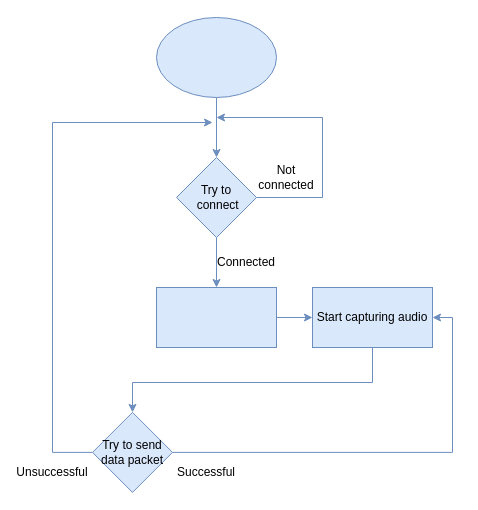
Some shapes in this 478 by 510 pixel diagram are drawn without their labels. The box of each missing label's shape, as (x1, y1, x2, y2) in pixels:
Instantiate audio capture object: (156, 286, 276, 348)
Transmitter Button Pushed: (156, 16, 276, 98)
